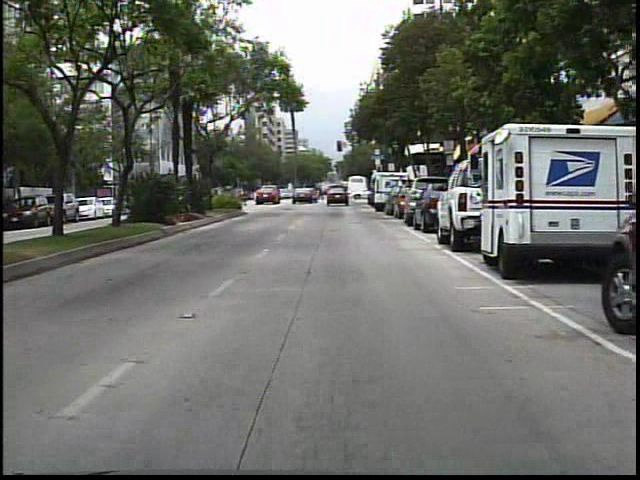person: (305, 181, 321, 206), (318, 184, 324, 203)
